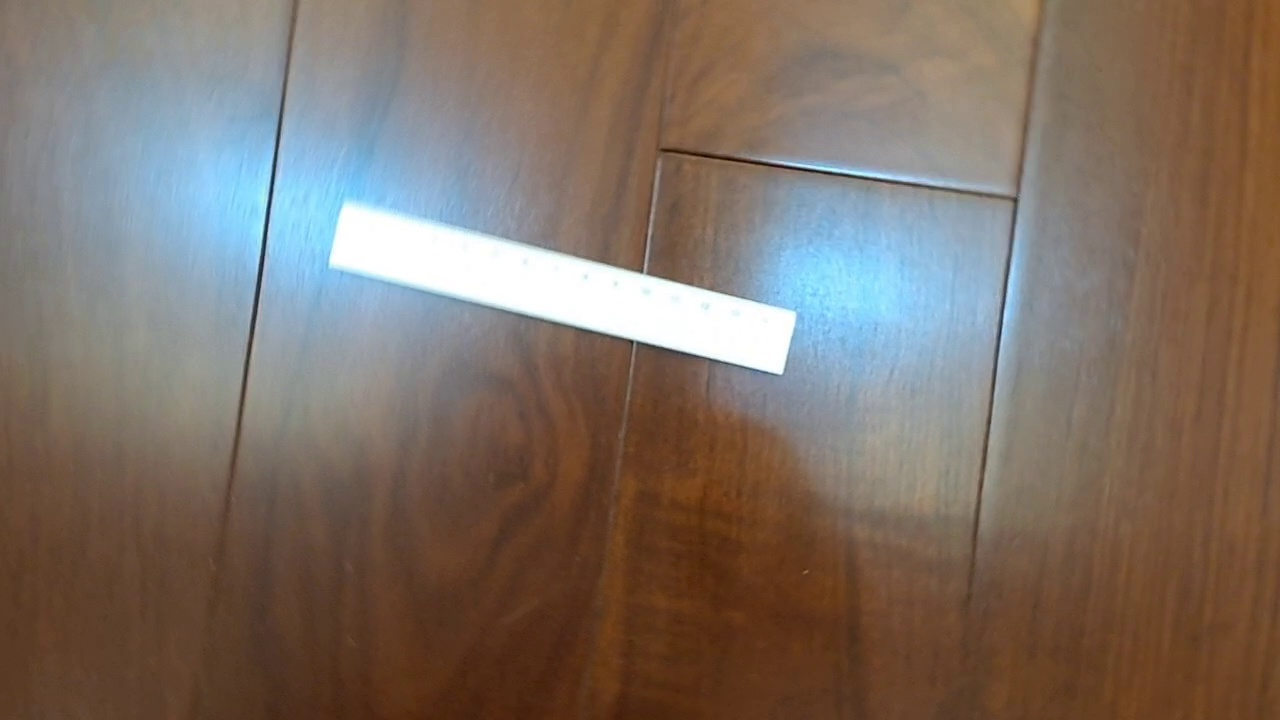ruler: (326, 198, 797, 378)
